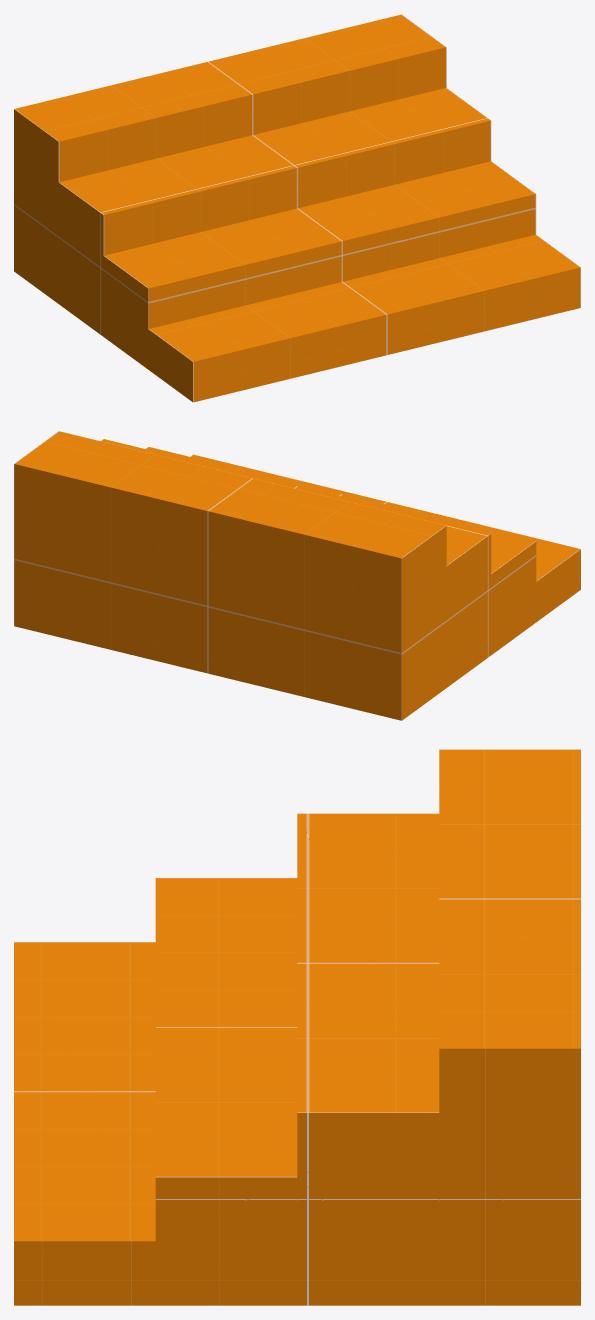
The model's file is OrangeSmallStairs-col.GLB.
The picture shows the model from 3 angles, top to bottom: view 1: azimuth 30°, elevation 25°; view 2: azimuth 150°, elevation 25°; view 3: azimuth 270°, elevation 25°; orthographic projection. The views are drawn at different scales.
Visible parts, largest first — view 1: OrangeSmallStairs-col; view 2: OrangeSmallStairs-col; view 3: OrangeSmallStairs-col.
Boxes of the visible parts, x1,y1,x2,y2 form: OrangeSmallStairs-col: (14,14,580,402); OrangeSmallStairs-col: (14,431,580,720); OrangeSmallStairs-col: (14,749,580,1305).
Bounding box in the file's own units: 1 × 0.4 × 0.8.
1 material, 1 textured.
